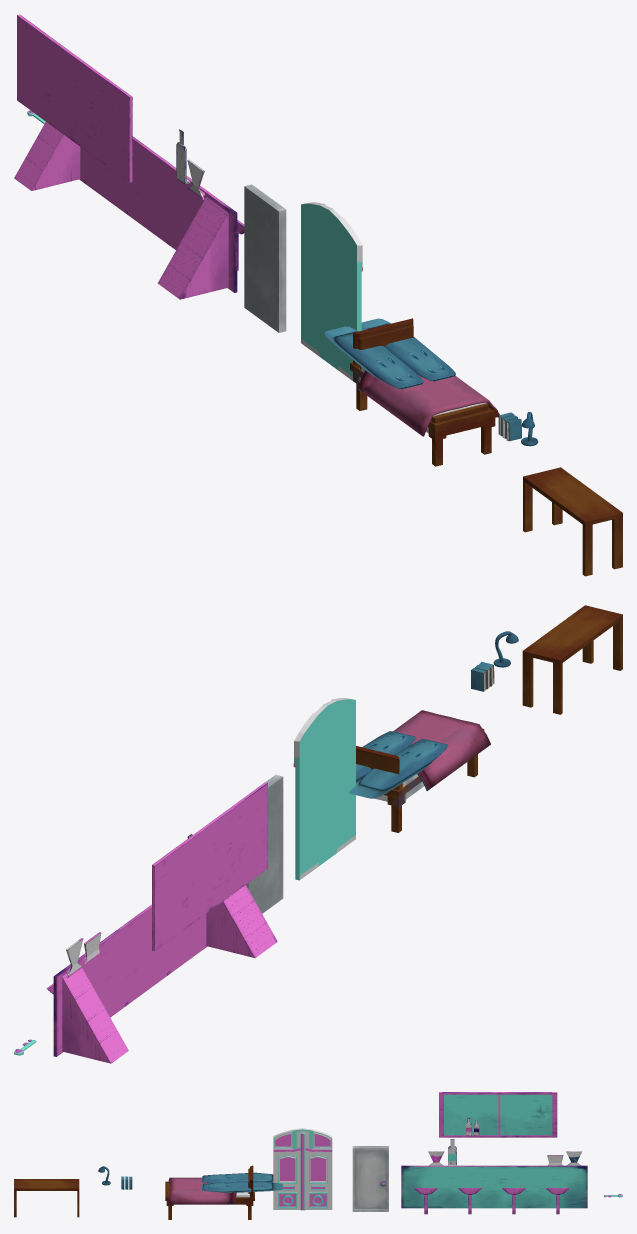
File: Puertas.fbx
3 renders of one model, top to bottom at view 1: azimuth 30°, elevation 25°; view 2: azimuth 150°, elevation 25°; view 3: azimuth 270°, elevation 25°, orthographic. The views are drawn at different scales.
Parts seen in each view (by area): view 1: Bar, Estante_bar, PuertaDoble, PuertaBasica, Escritorio, Almohadas, Cobija, Cama; view 2: Bar, Estante_bar, PuertaDoble, Escritorio, Cobija, Almohadas, PuertaBasica, Cama; view 3: Bar, Estante_bar, PuertaDoble, PuertaBasica, Cobija, Almohadas, Escritorio, Silla_Bar, Cama, Botella.
Part boxes in pixels (<box>): Bar: <box>14,122,237,299</box>; Estante_bar: <box>17,14,132,182</box>; PuertaDoble: <box>301,202,362,382</box>; PuertaBasica: <box>244,184,286,332</box>; Escritorio: <box>523,467,622,576</box>; Almohadas: <box>324,318,455,389</box>; Cobija: <box>357,370,499,436</box>; Cama: <box>350,318,497,466</box>; Bar: <box>53,885,277,1063</box>; Estante_bar: <box>152,782,267,950</box>; PuertaDoble: <box>293,698,355,880</box>; Escritorio: <box>522,605,622,714</box>; Cobija: <box>393,710,490,790</box>; Almohadas: <box>349,731,448,798</box>; PuertaBasica: <box>246,774,283,913</box>; Cama: <box>356,729,484,832</box>; Bar: <box>401,1165,587,1208</box>; Estante_bar: <box>439,1092,557,1137</box>; PuertaDoble: <box>273,1128,332,1210</box>; PuertaBasica: <box>352,1146,388,1211</box>; Cobija: <box>168,1177,236,1204</box>; Almohadas: <box>202,1172,282,1192</box>; Escritorio: <box>14,1179,79,1217</box>; Silla_Bar: <box>413,1188,570,1214</box>; Cama: <box>165,1165,254,1219</box>; Botella: <box>448,1139,456,1165</box>.
Size of the model in its own units: 3941 by 6394 by 34427.
